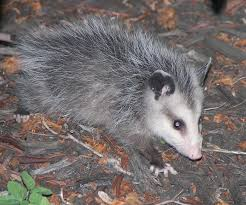opossum: (14, 15, 205, 186)
